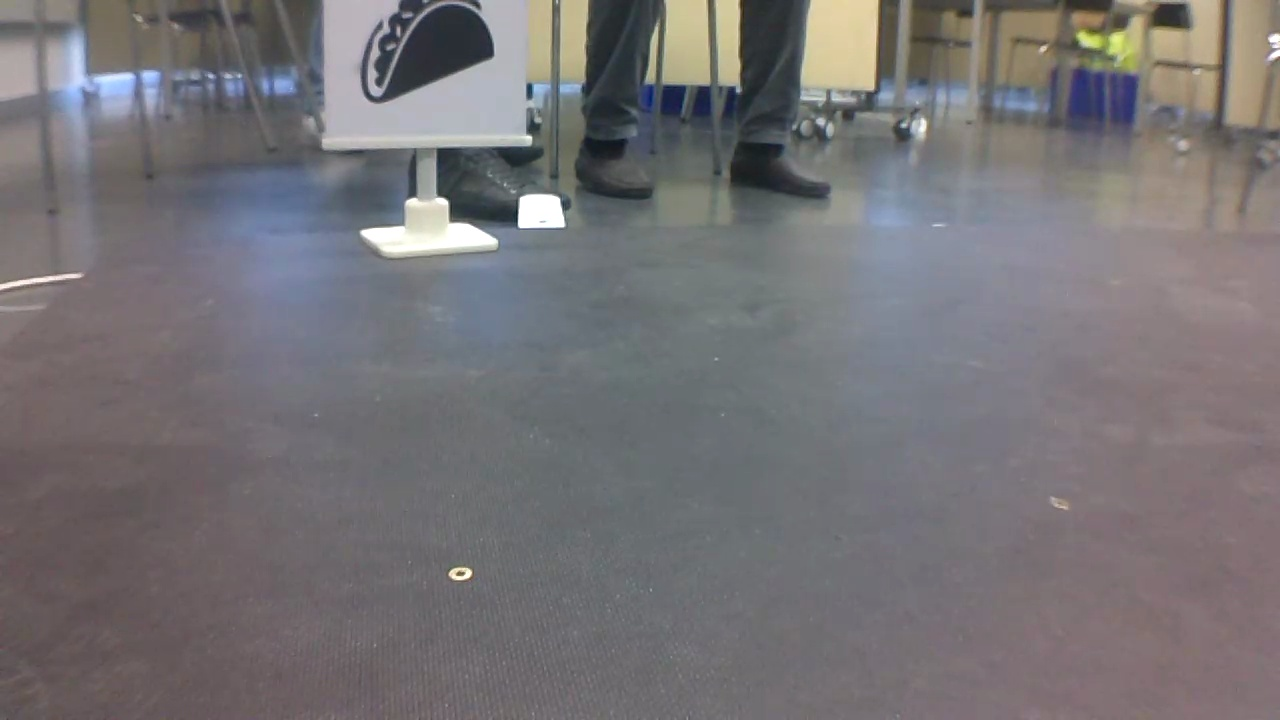taco: (357, 2, 505, 109)
